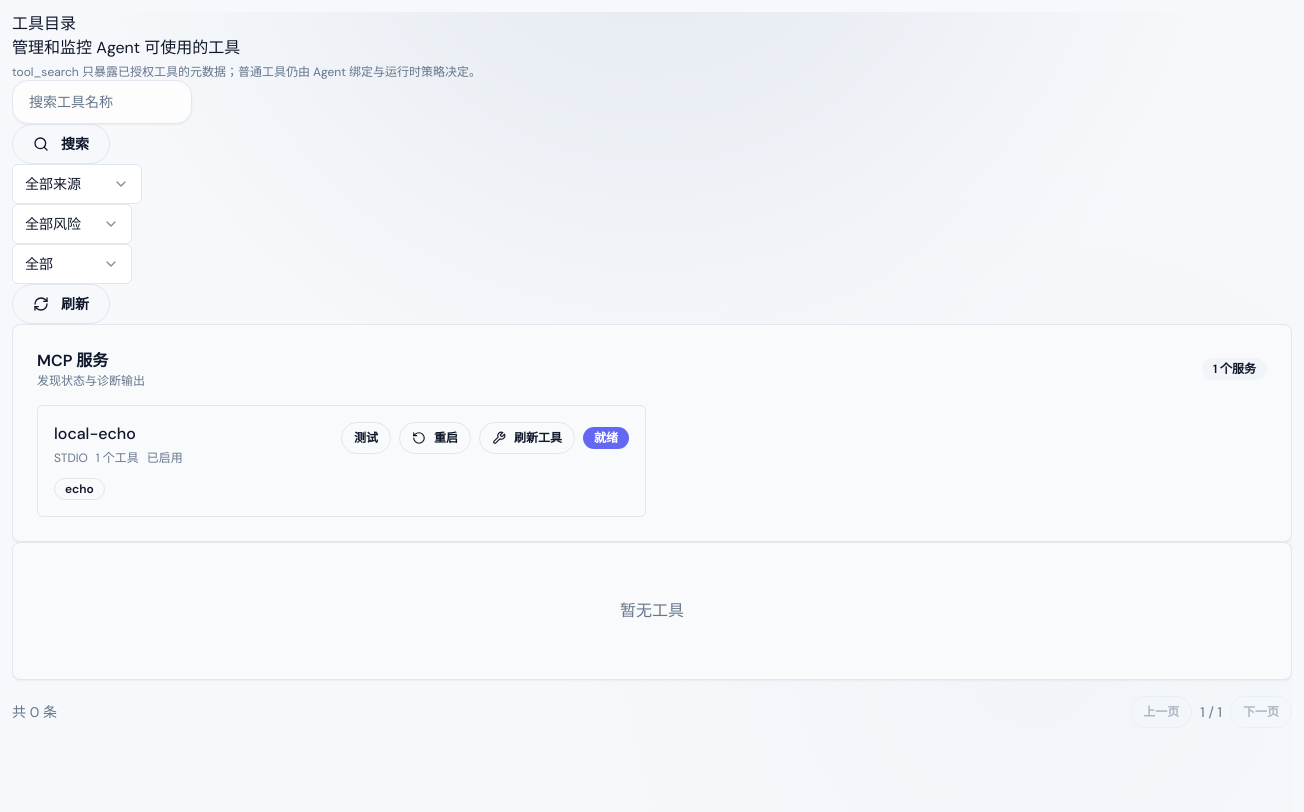
Scenario: ToolCatalogPage › refreshes MCP server tools from the server panel and reloads statuses
Expected: the text "local-echo" is shown, left=54, top=423, right=136, bottom=444
Click the button with aria-label "refresh-tools-local-echo" at (527, 438), box left=479, top=422, right=575, bottom=454
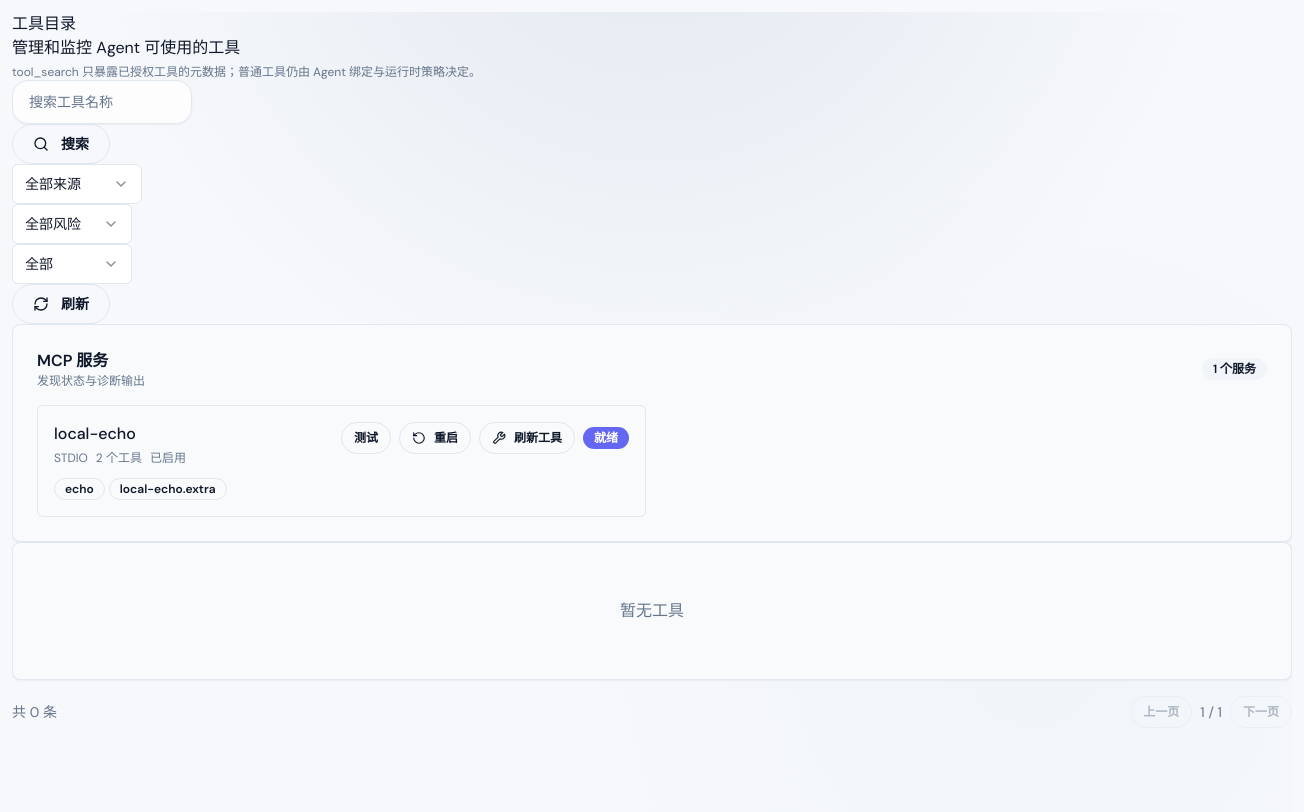
Expected: the text "local-echo.extra" is shown, left=109, top=478, right=227, bottom=500
